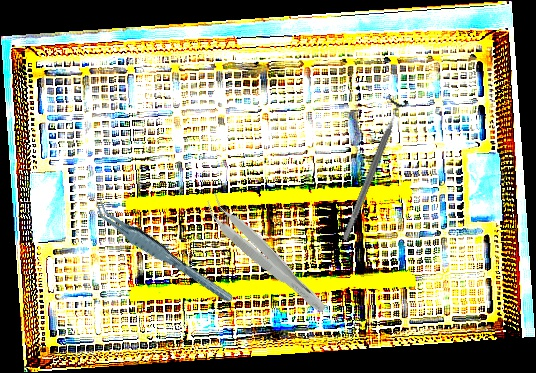Fixation Ring: (333, 93, 411, 245)
Tissue Forceps: (89, 186, 235, 319), (198, 191, 335, 318)
